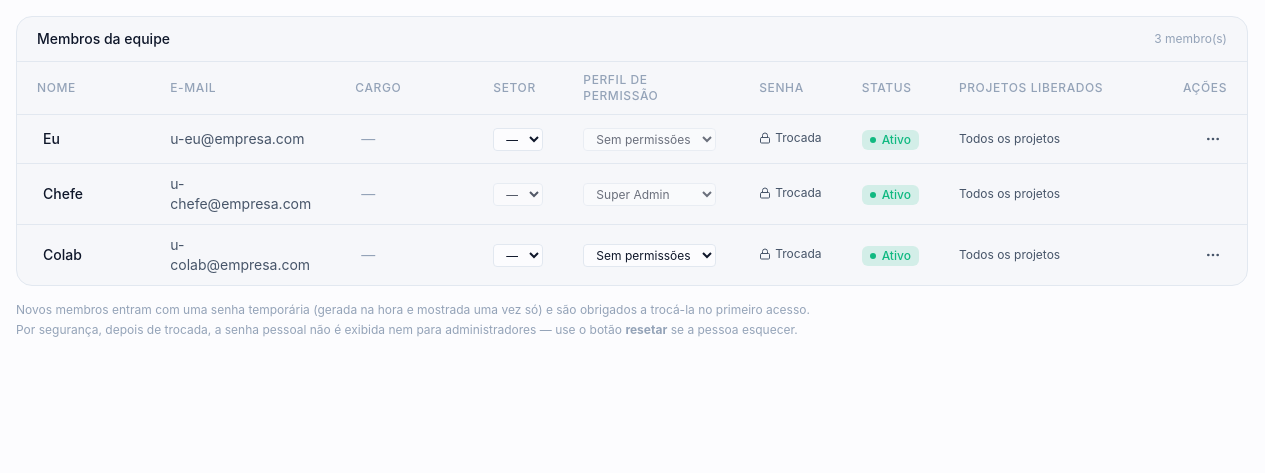
Test: editar sem acesso total: gere colaboradores, mas não toca no Super Admin
This screenshot has width=1265, height=473.
Check: the field showing "Colab" next to "u-colab@empresa.com" is enabled, box [37,243,130,267]
Check: the field showing "Chefe" next to "u-chefe@empresa.com" is disabled, box [37,182,130,206]
Click the button titled "Ações" in the row of "u-colab@empresa.com".
click(1213, 255)  # box [1199,241,1227,269]
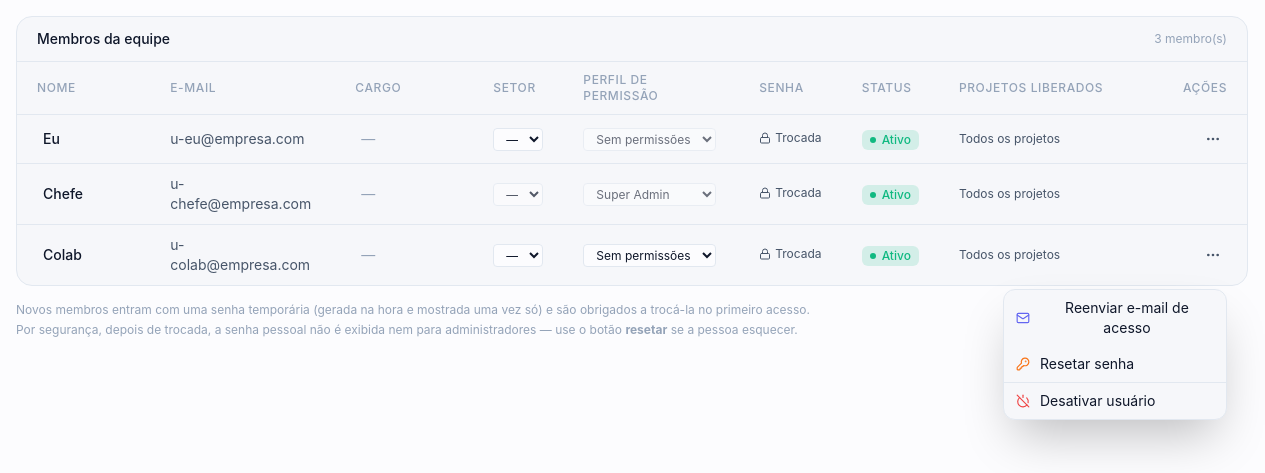
Check: the button "Resetar senha" is shown, box [1004,346,1226,382]
Check: the button "Desativar usuário" is shown, box [1004,383,1226,419]
